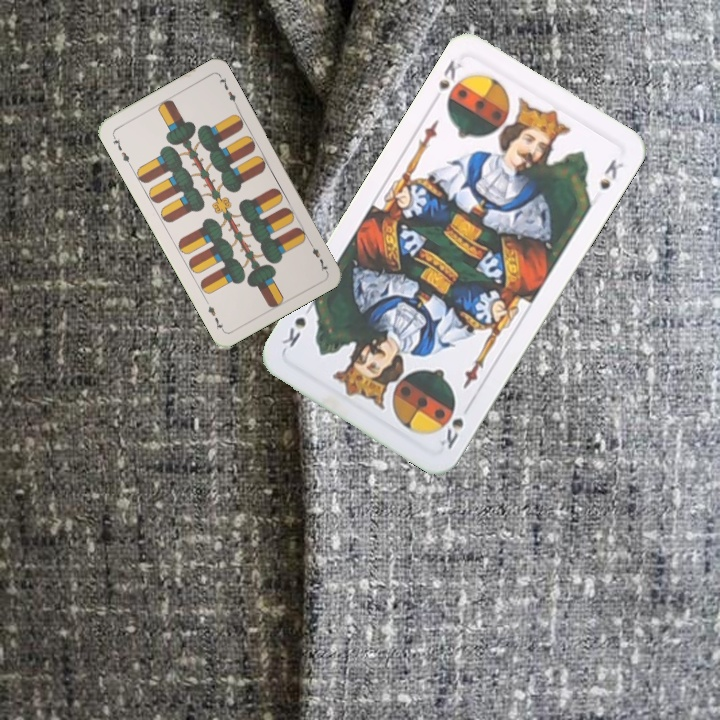E7: (305, 237, 331, 274), (108, 131, 133, 168)
SK: (434, 55, 469, 110), (435, 403, 466, 452)
